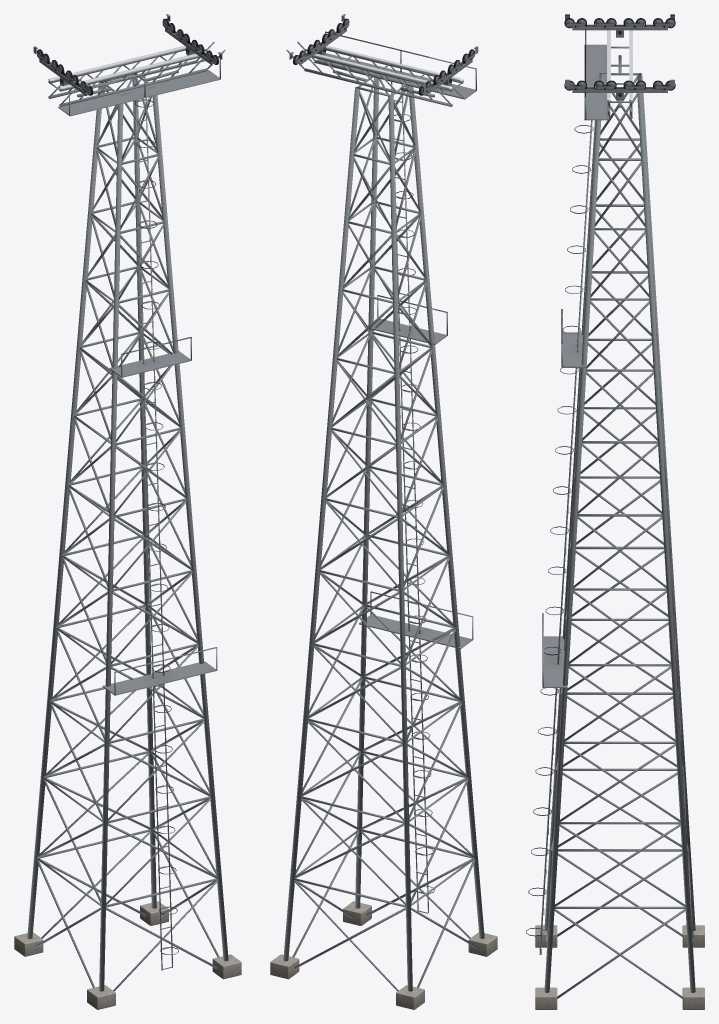
The model's file is tower_lattice.glb.
3 renders of one model, left to right at view 1: azimuth 30°, elevation 25°; view 2: azimuth 150°, elevation 25°; view 3: azimuth 270°, elevation 25°, orthographic.
Visible parts, largest first — view 1: tower_lattice_paint, tower_lattice, tower_lattice_snow; view 2: tower_lattice_paint, tower_lattice, tower_lattice_snow; view 3: tower_lattice_paint, tower_lattice, tower_lattice_snow.
Part boxes in pixels (bbox=[...]): tower_lattice_paint: bbox=[27, 41, 228, 991]; tower_lattice: bbox=[14, 14, 241, 1009]; tower_lattice_snow: bbox=[48, 45, 206, 89]; tower_lattice_paint: bbox=[283, 41, 484, 991]; tower_lattice: bbox=[270, 14, 497, 1009]; tower_lattice_snow: bbox=[305, 45, 463, 89]; tower_lattice_paint: bbox=[544, 46, 695, 998]; tower_lattice: bbox=[526, 14, 704, 1009]; tower_lattice_snow: bbox=[607, 30, 632, 100].
Bounding box in the file's own units: 8.02 × 41.62 × 7.27.
Materials: 3 (1 with a texture image).
